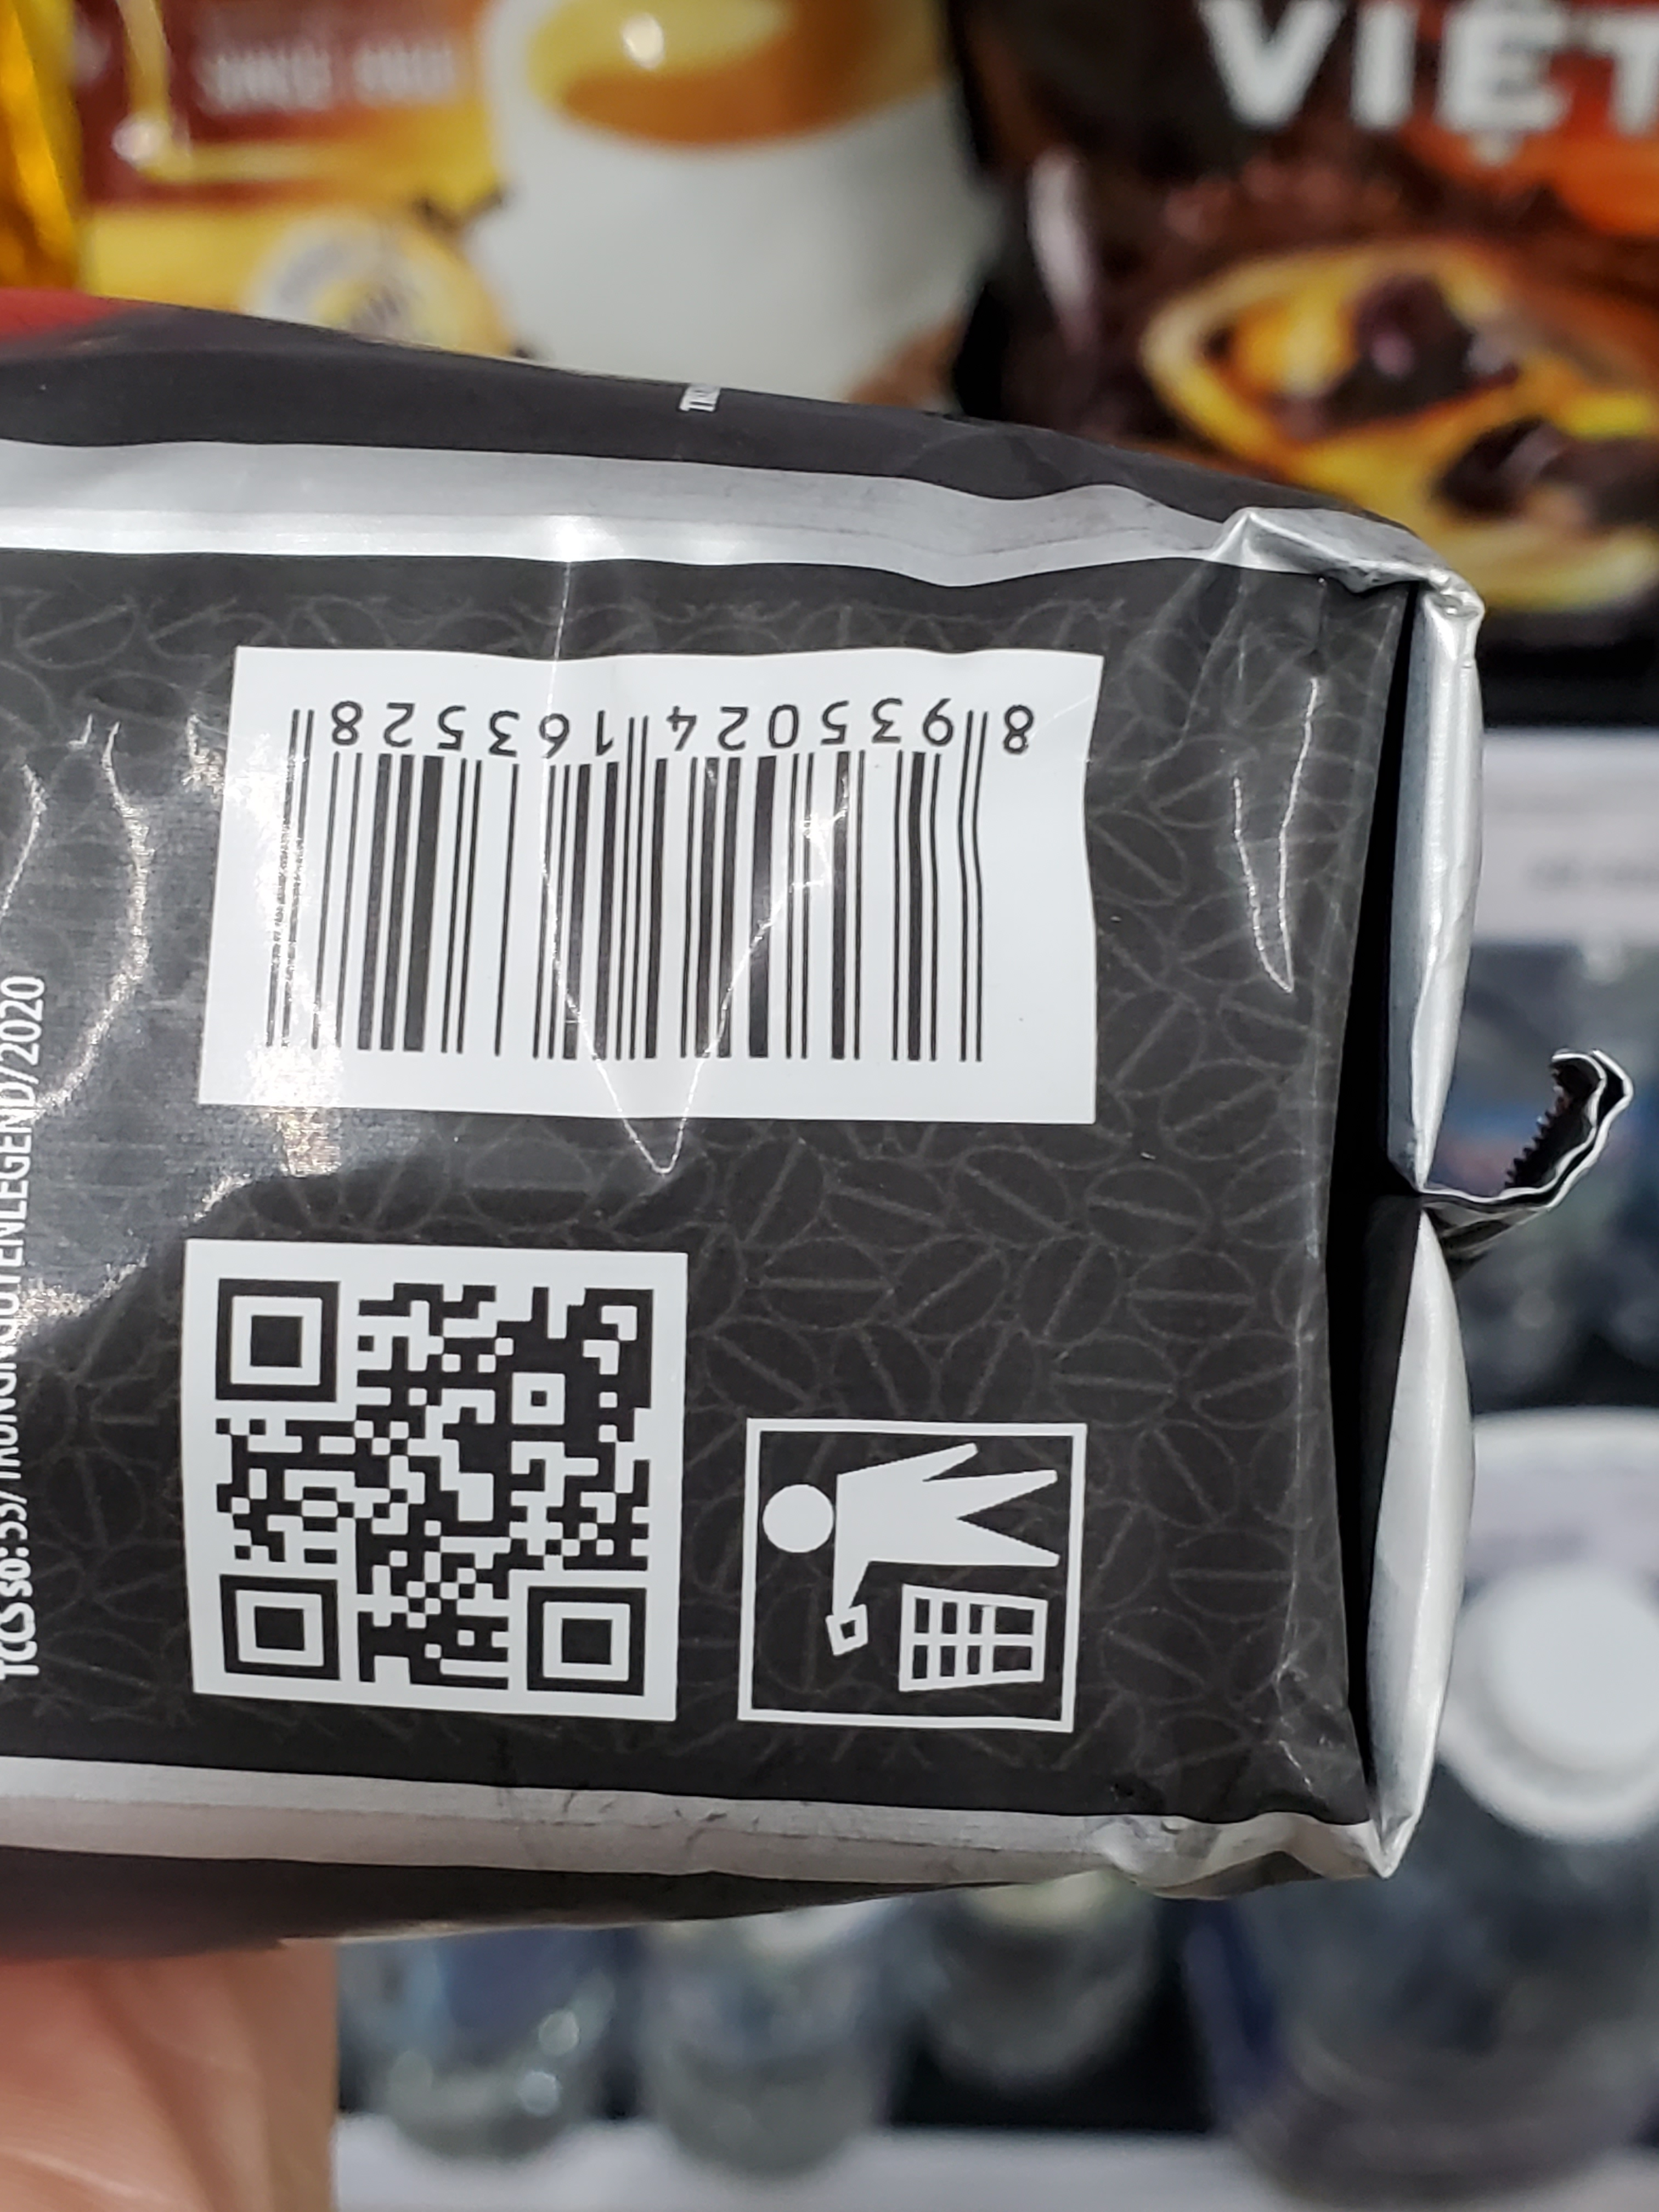barcode: (230, 658, 1098, 1113)
qr code: (181, 1242, 678, 1728)
